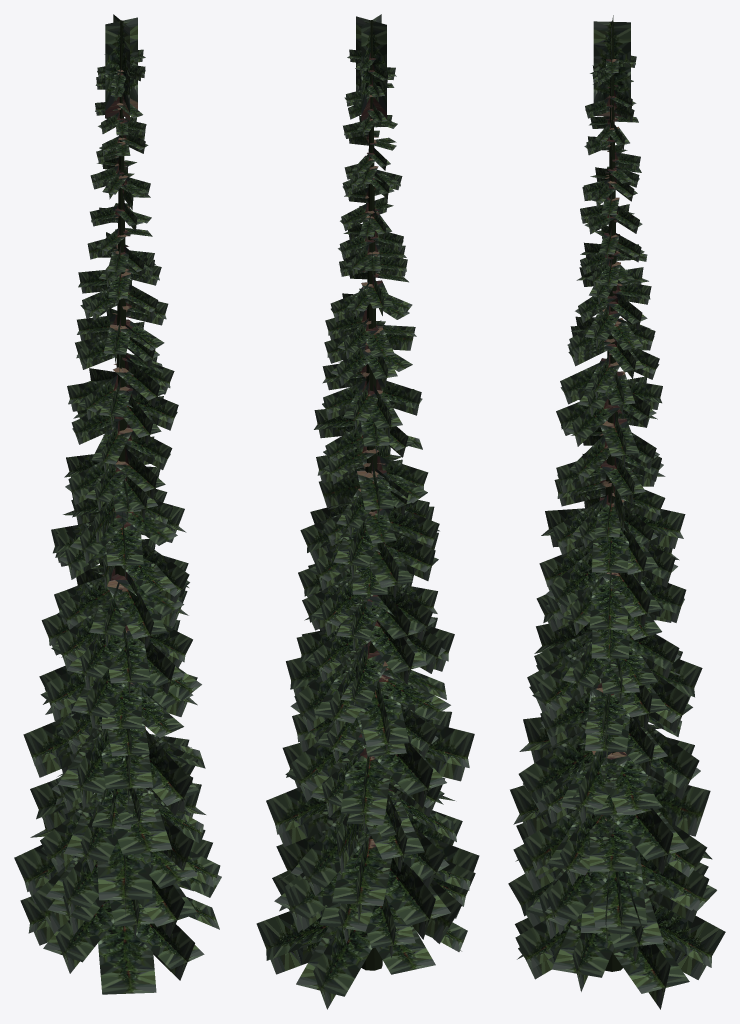
Rendered from category_mesh_tree_0.glb.
3 views of the same model, side by side, from view 1: azimuth 30°, elevation 25°; view 2: azimuth 150°, elevation 25°; view 3: azimuth 270°, elevation 25° (orthographic).
Visible parts, largest first — view 1: category_mesh_tree_0; view 2: category_mesh_tree_0; view 3: category_mesh_tree_0.
Part boxes in pixels (x1,y1,x2,y2): category_mesh_tree_0: (14, 14, 221, 994); category_mesh_tree_0: (256, 14, 479, 1009); category_mesh_tree_0: (508, 15, 725, 1009).
Bounding box in the file's own units: 3.58 × 18.25 × 3.72.
Materials: 1 (1 with a texture image).
